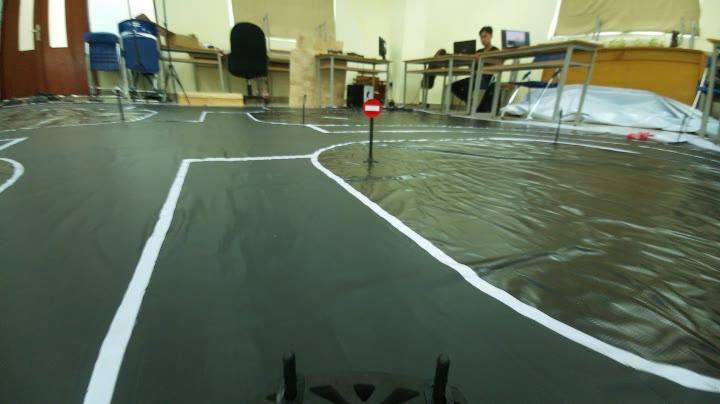no_entry: (357, 92, 388, 124)
